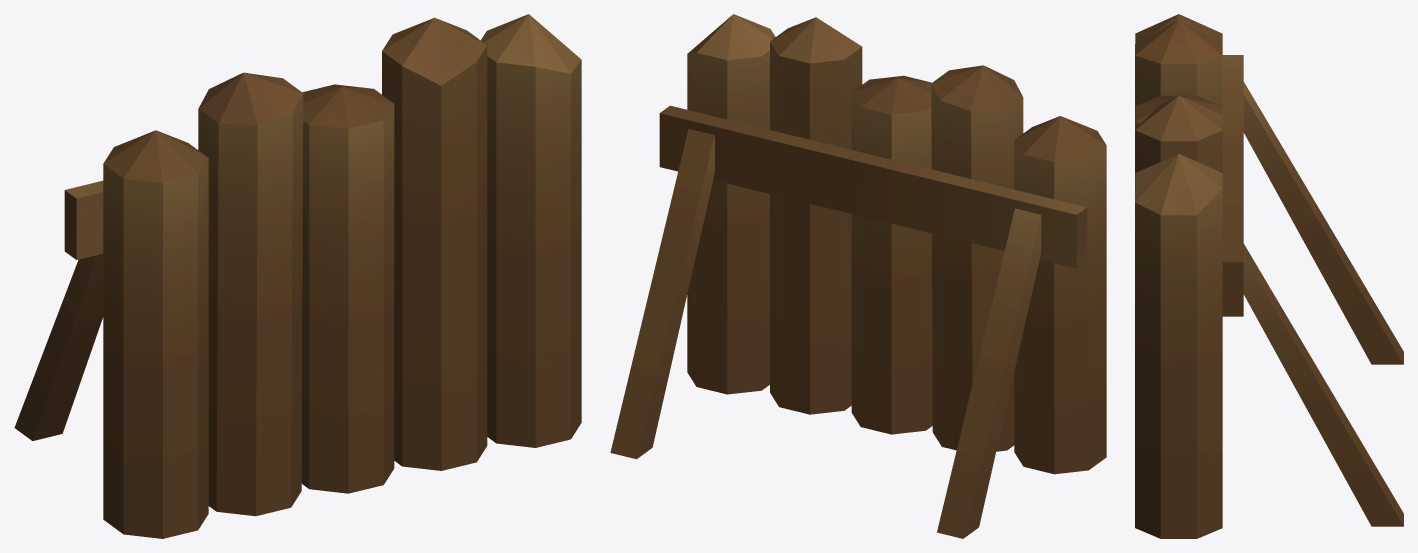
File: pack04_fences_11.fbx
3 views of the same model, side by side, from view 1: azimuth 30°, elevation 25°; view 2: azimuth 150°, elevation 25°; view 3: azimuth 270°, elevation 25° (orthographic). The views are drawn at different scales.
Visible parts, largest first — view 1: Medium_Fence_04; view 2: Medium_Fence_04; view 3: Medium_Fence_04.
Part boxes in pixels (bbox=[...]): Medium_Fence_04: bbox=[14, 14, 581, 538]; Medium_Fence_04: bbox=[610, 14, 1106, 538]; Medium_Fence_04: bbox=[1135, 14, 1403, 538].
Bounding box in the file's own units: 33.83 × 29.3 × 18.57.
Materials: 1 (1 with a texture image).
